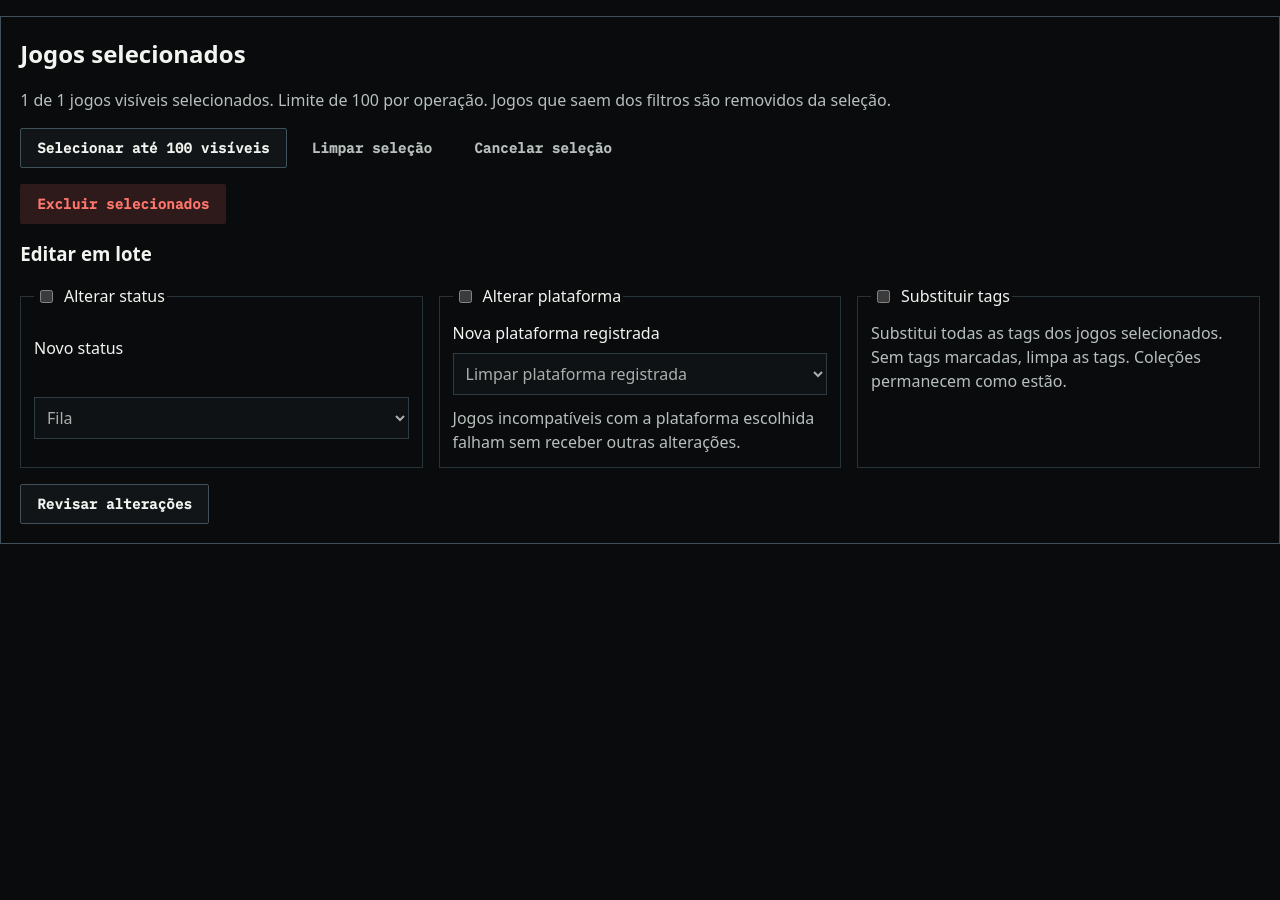
Scenario: lists selected games and only deletes after explicit confirmation
The image size is (1280, 900).
Click the button "Excluir selecionados": (123,204) [20,184,226,224]
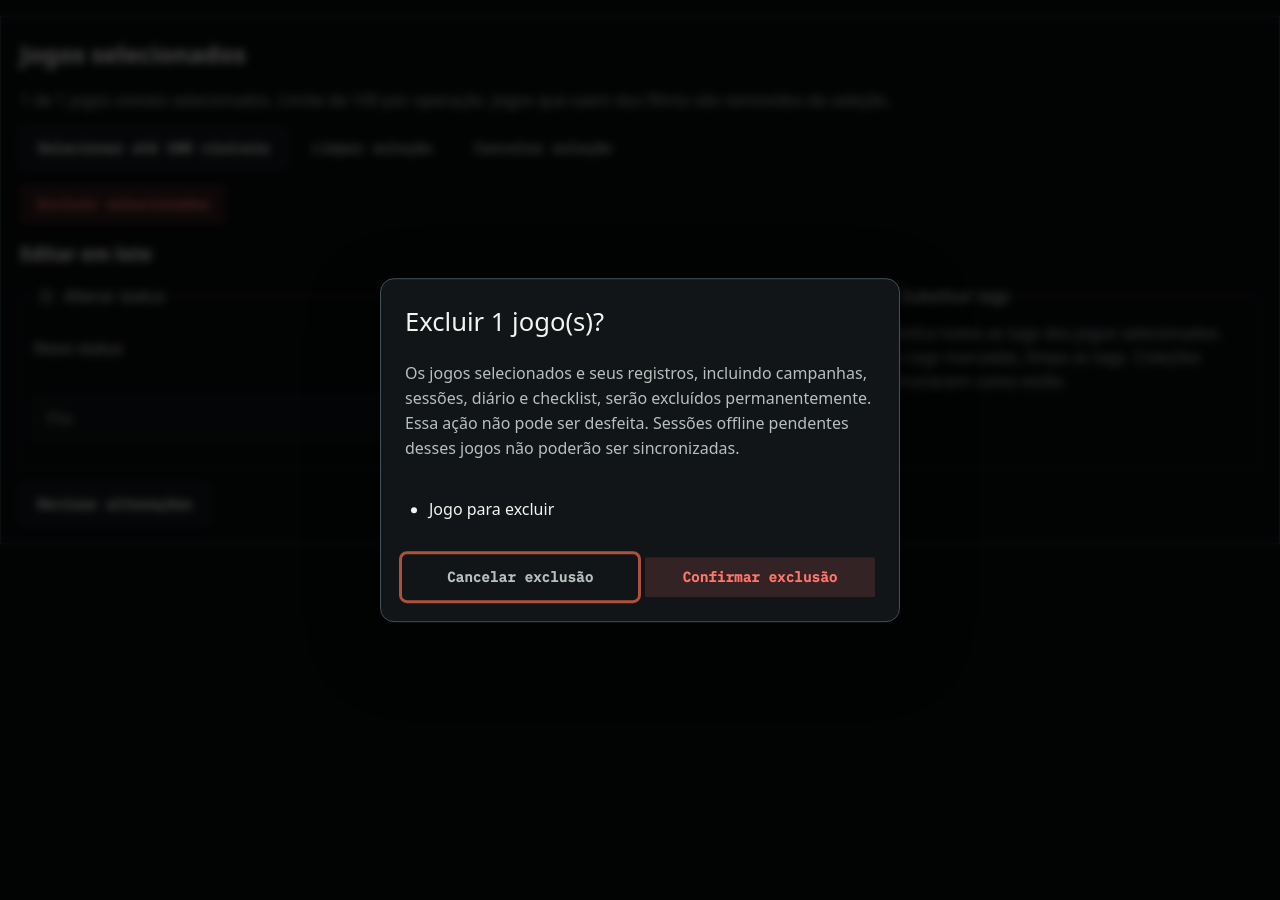
Result: the dialog shows "Jogo para excluir" at [429,498,554,520]
Result: the dialog shows "permanentemente" at [405,363,871,459]
Click the button "Cancelar exclusão": (520,577) [405,557,635,597]
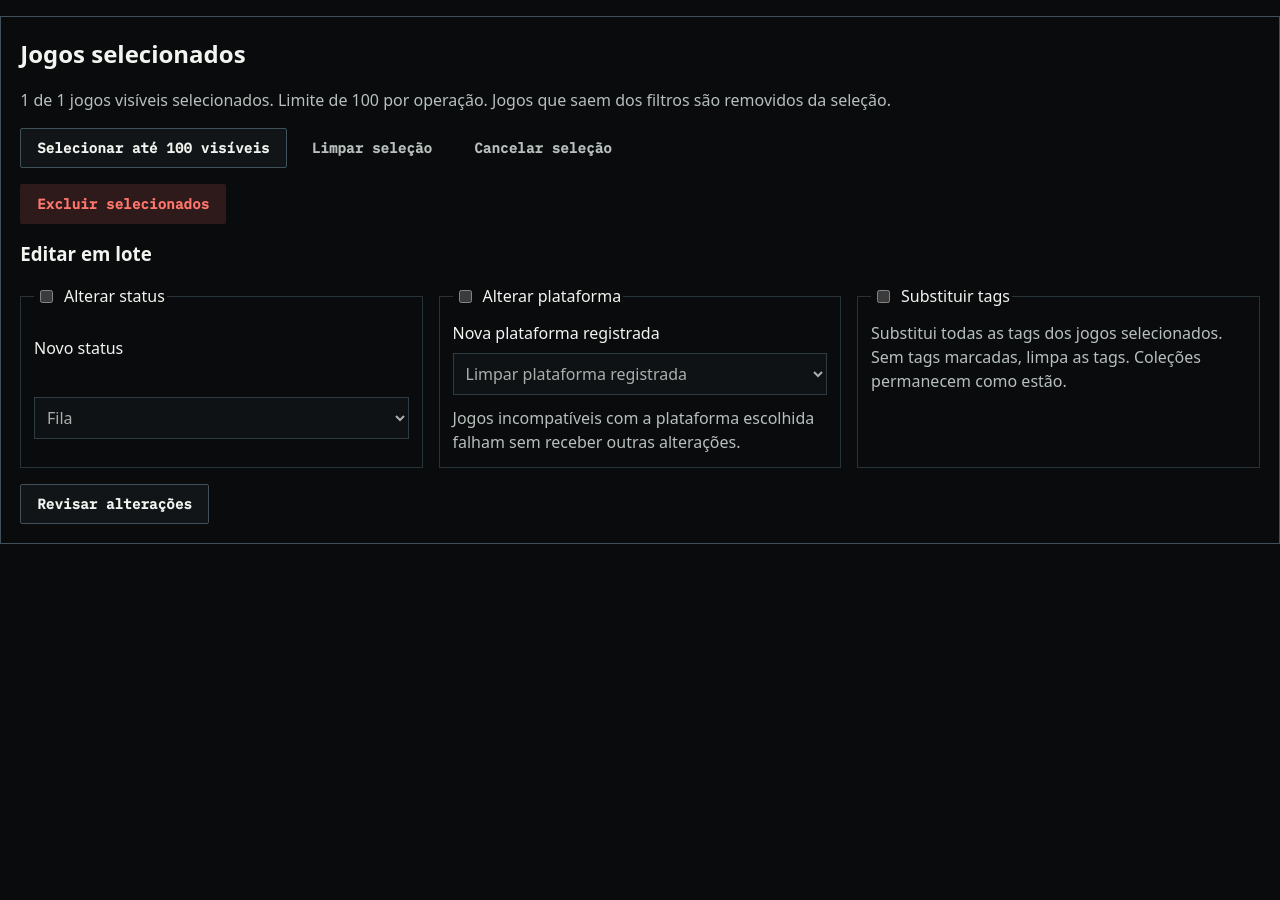
Click the button "Excluir selecionados": (123,204) [20,184,226,224]
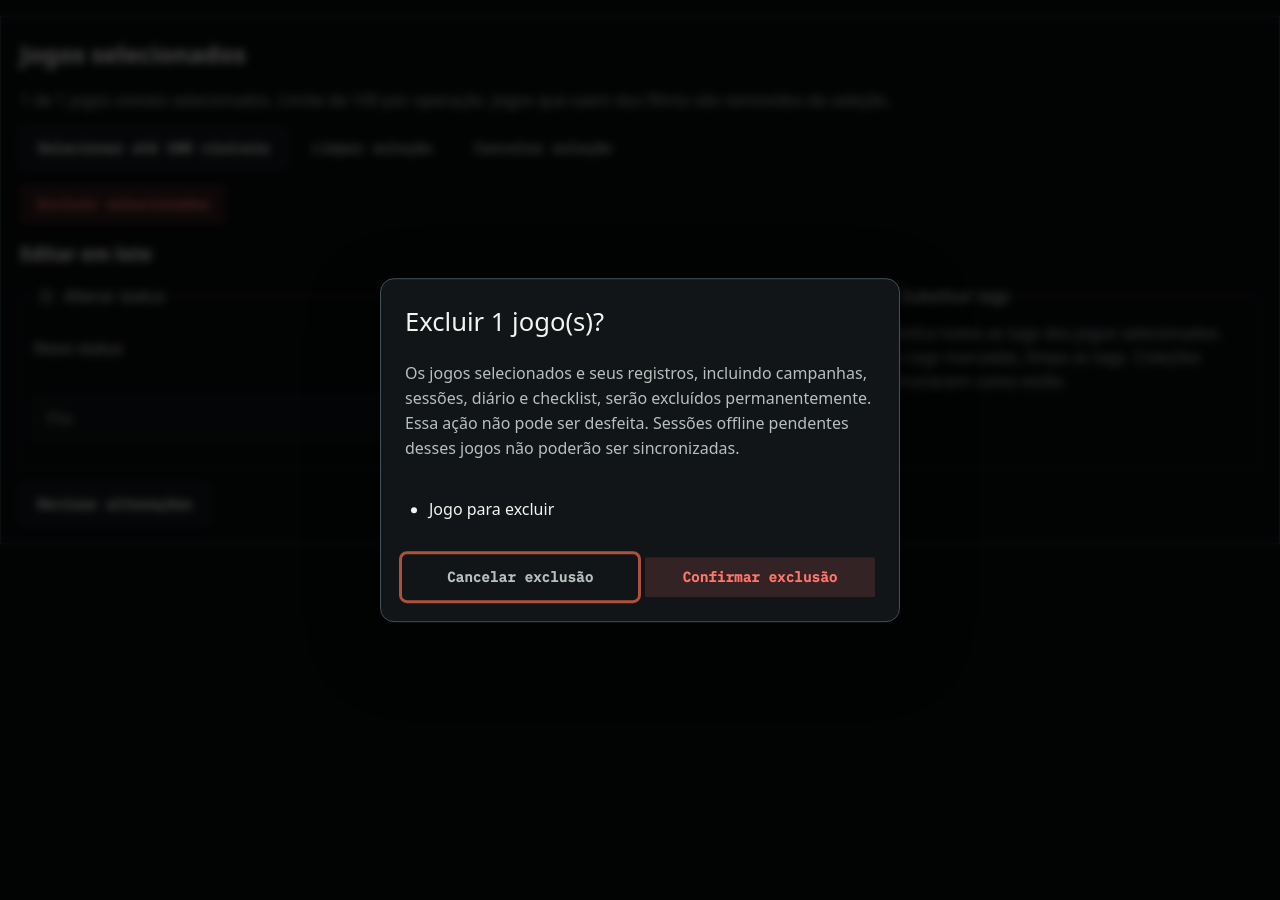
Click the button "Confirmar exclusão": (760,577) [645,557,875,597]
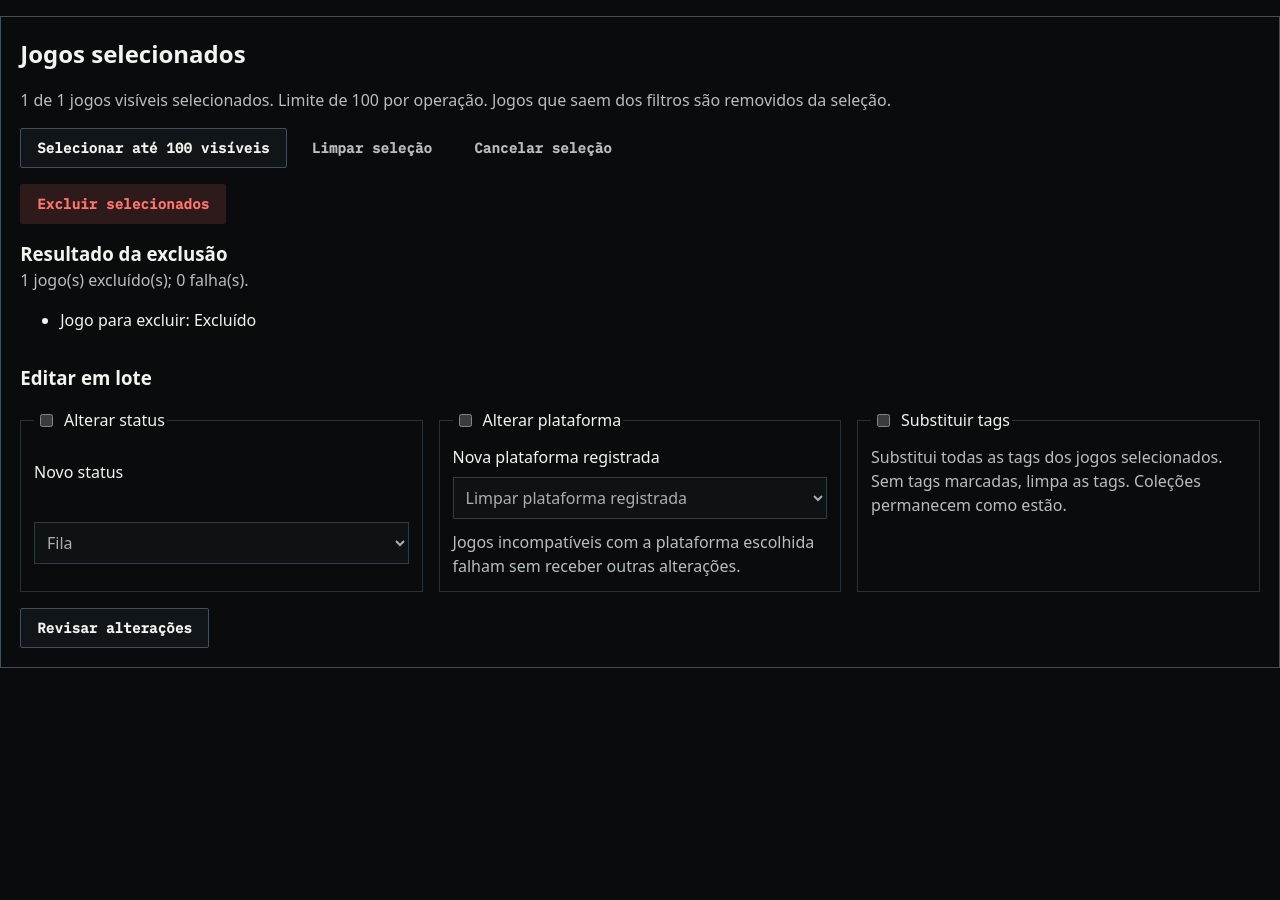
Result: the list item "Jogo para excluir: Excluído" is shown at [60,309,256,331]
